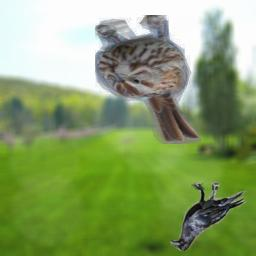Crow: (170, 180, 248, 251)
Sparrow: (95, 15, 201, 144)
